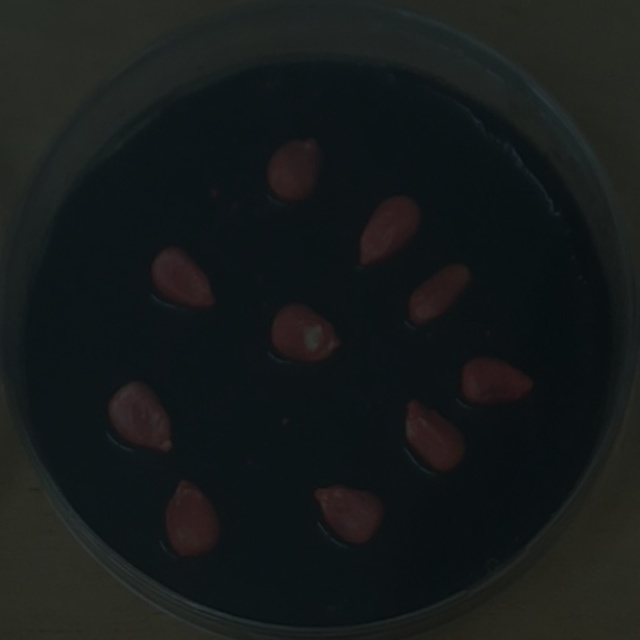Zea mays: (101, 371, 180, 462), (155, 470, 229, 565), (349, 186, 427, 276), (142, 236, 225, 316), (304, 476, 391, 552), (262, 292, 349, 368), (398, 392, 474, 478), (400, 252, 480, 333), (260, 129, 330, 208), (453, 348, 542, 410)
